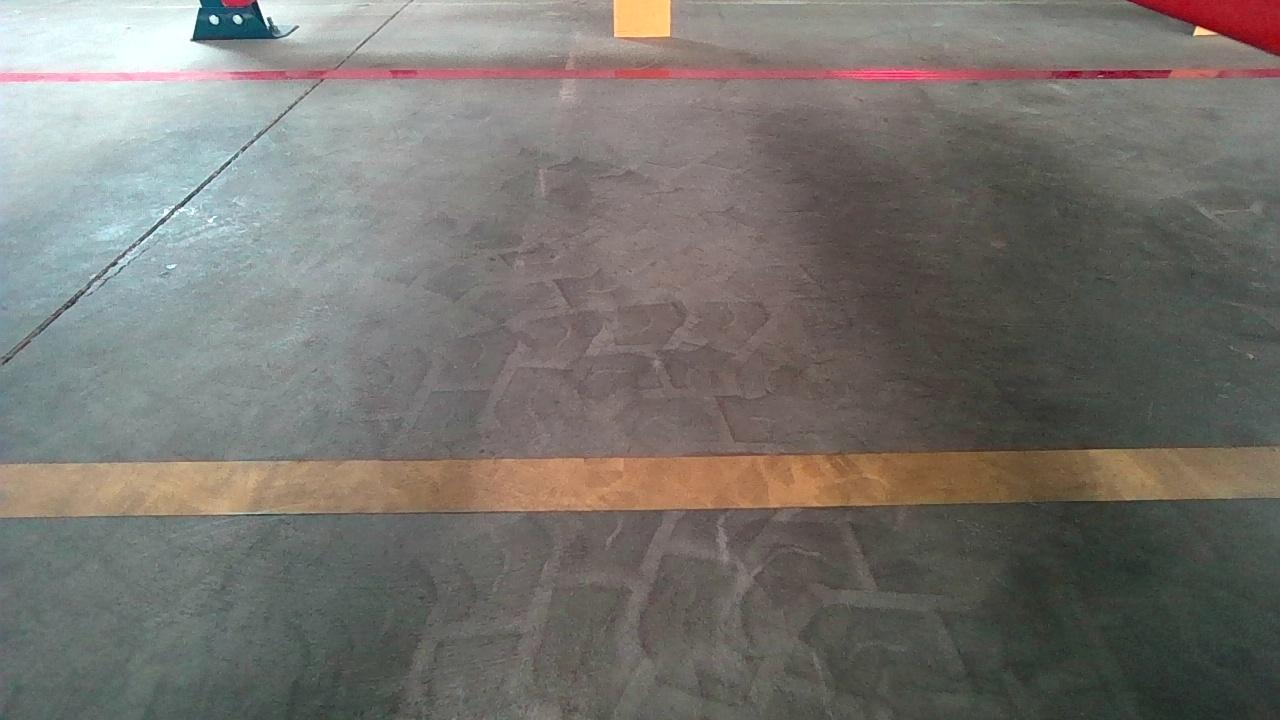yellow_line: (0, 443, 1270, 521)
